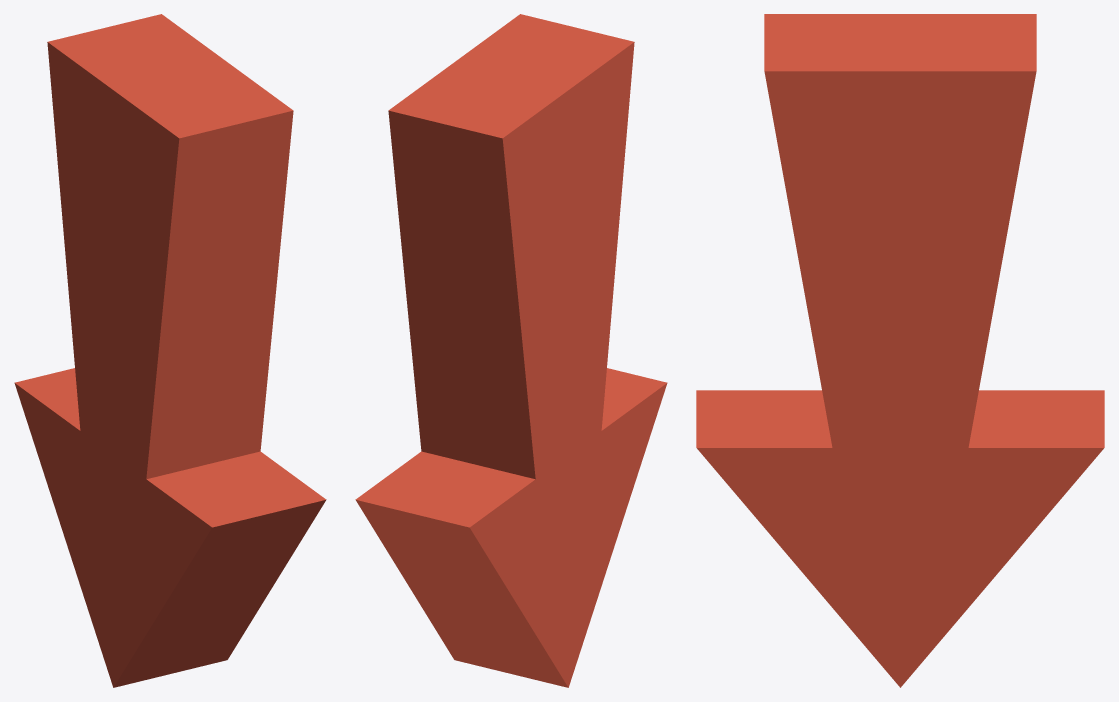
The model's file is fleche.glb.
3 views of the same model, side by side, from view 1: azimuth 30°, elevation 25°; view 2: azimuth 150°, elevation 25°; view 3: azimuth 270°, elevation 25° (orthographic). The views are drawn at different scales.
Visible parts, largest first — view 1: Cube.002; view 2: Cube.002; view 3: Cube.002.
Boxes of the visible parts, left/top/right/bottom form: Cube.002: left=14, top=14, right=326, bottom=687; Cube.002: left=355, top=14, right=667, bottom=687; Cube.002: left=696, top=14, right=1104, bottom=687.
Size of the model in its own units: 1.72 by 8.62 by 5.17.
Materials: 1 (1 with a texture image).
